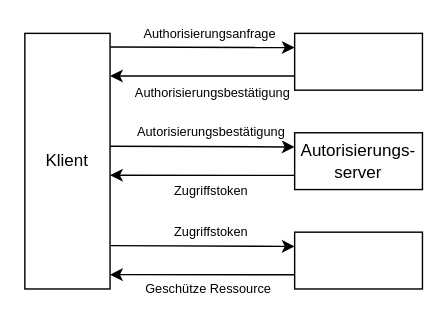
Some shapes in this 447 by 322 pixel diagram are drawn without their labels. The box of each missing label's shape, as (x1, y1, x2, y2) in pixels:
Ressourcen- besitzer: (293, 32, 422, 90)
Ressourcen- Server: (293, 231, 422, 289)
